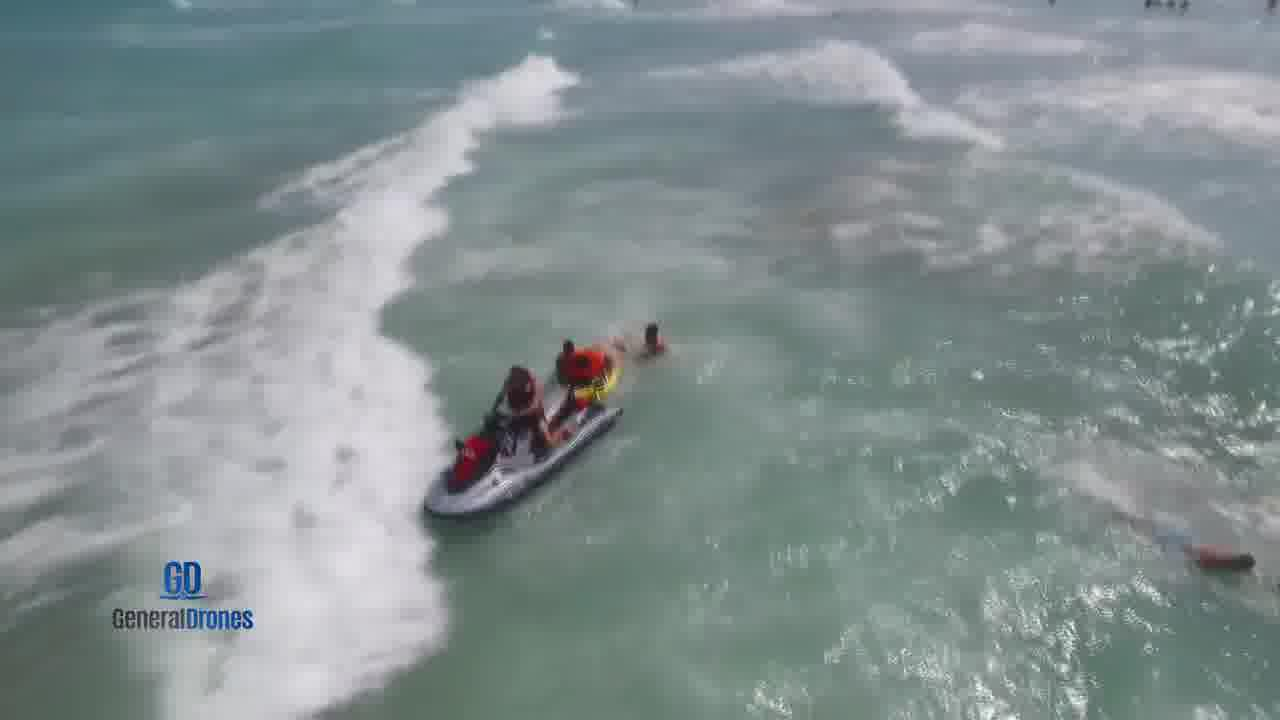human: (1167, 521, 1264, 581), (613, 308, 684, 359)
